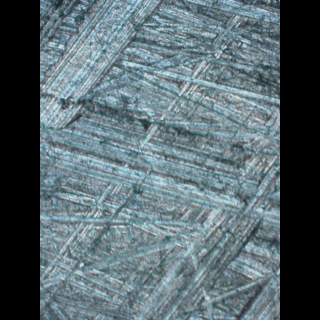d: (46, 145, 280, 254), (40, 0, 147, 136)
